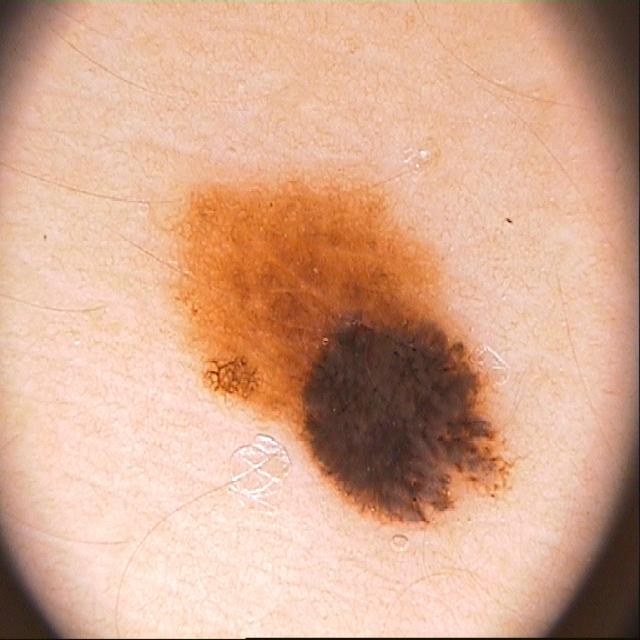Skin-Cancer Nevus: (61, 9, 577, 622)
